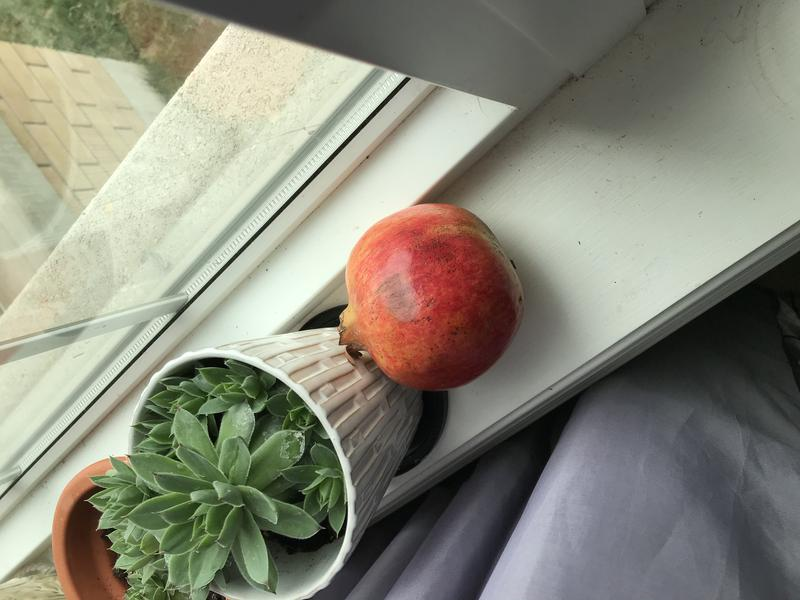pomegranate: (331, 188, 532, 403)
